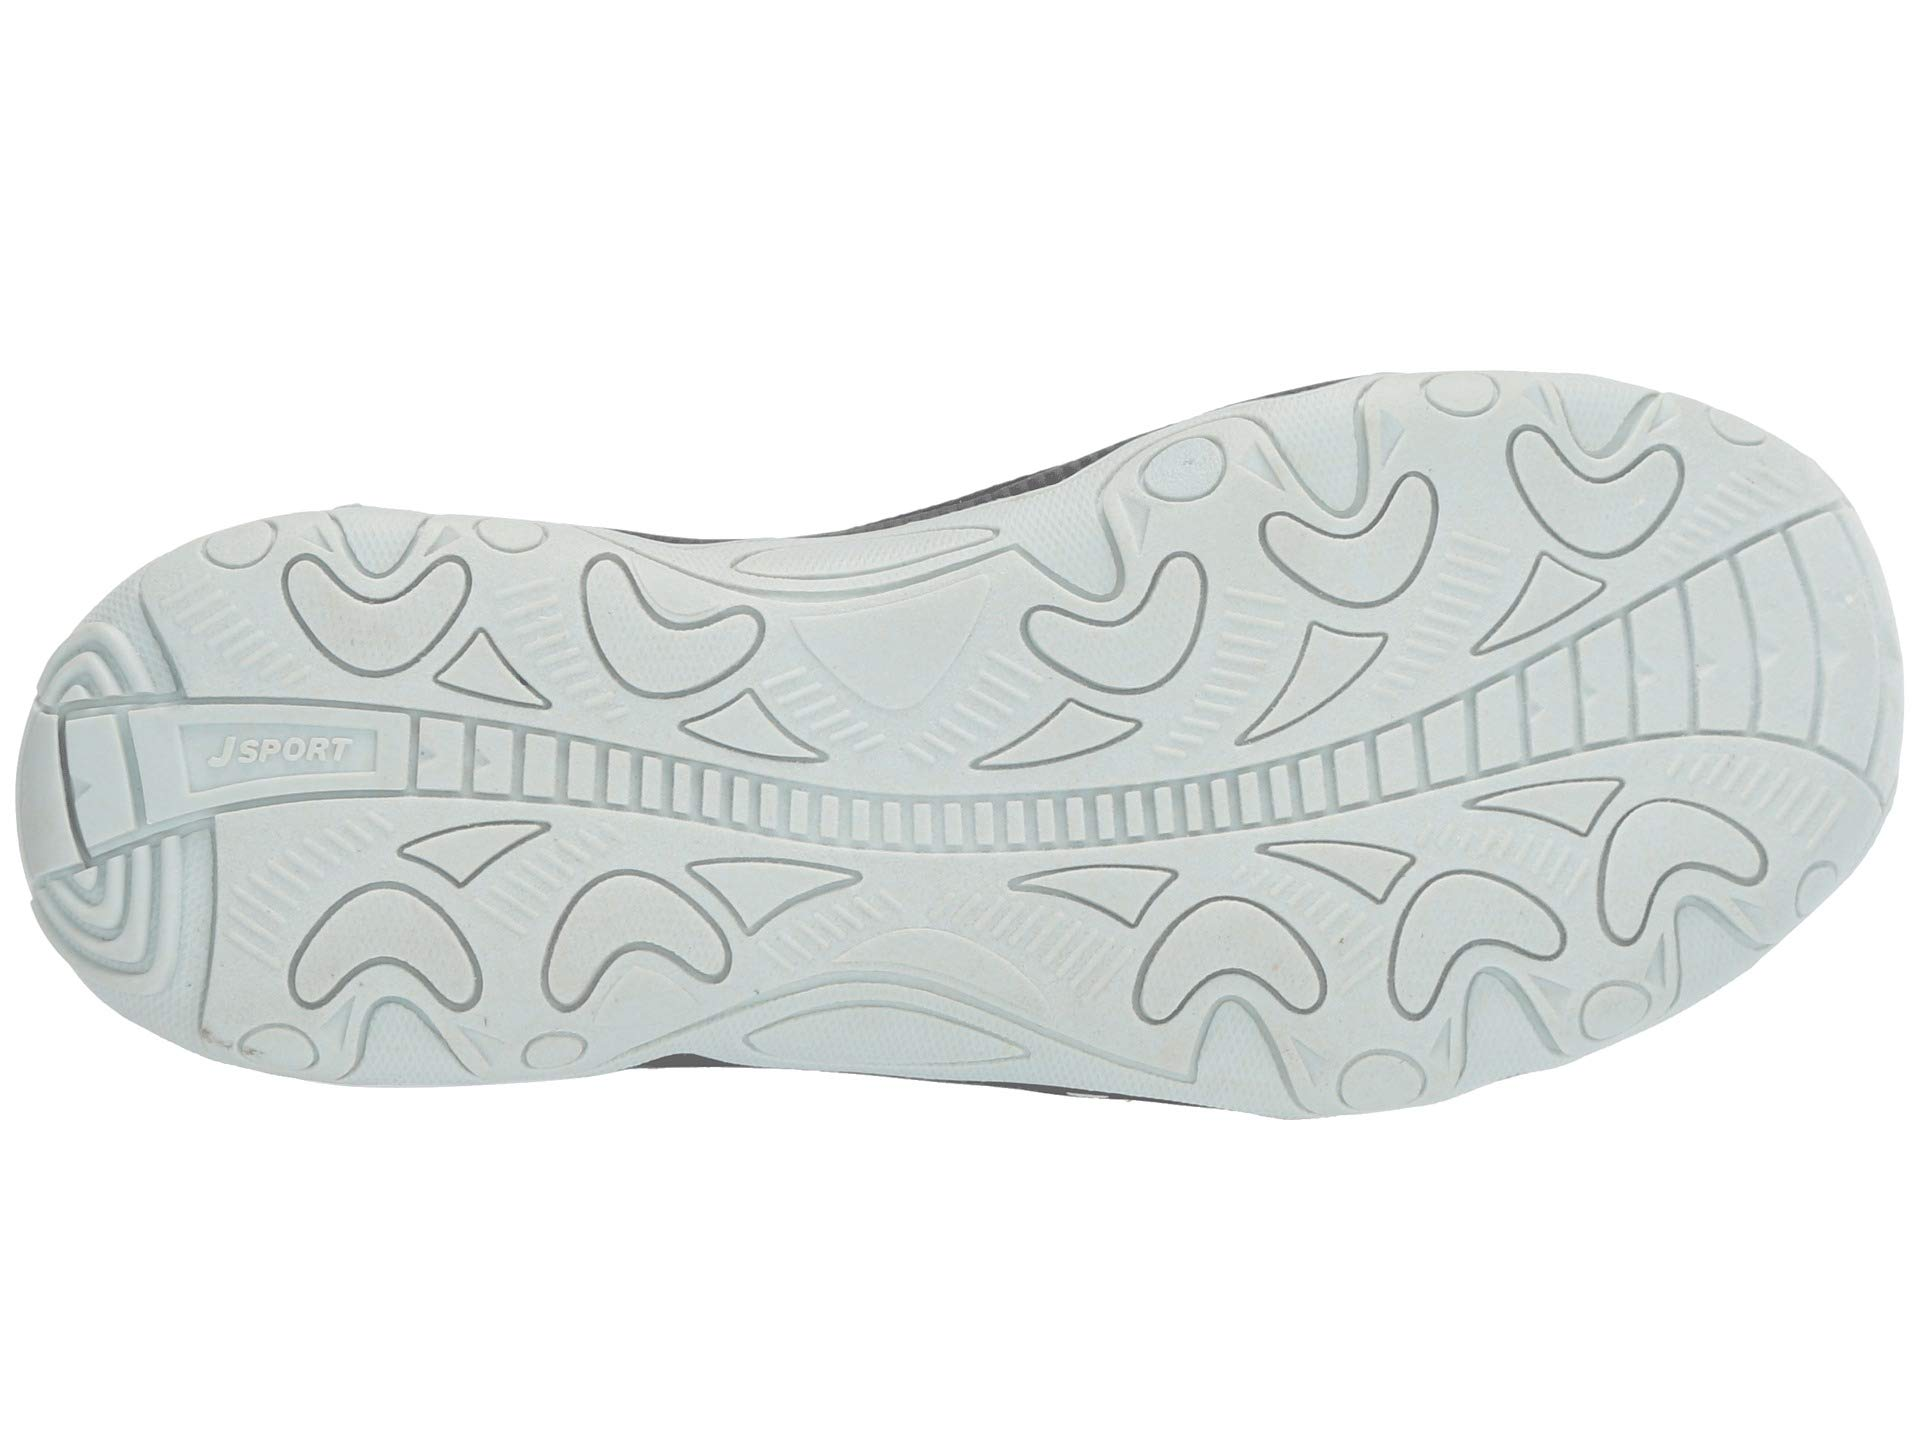chevron: (1436, 414, 1776, 768), (534, 538, 875, 849), (940, 535, 1246, 855)
line: (1436, 414, 1776, 768), (534, 538, 875, 849), (940, 535, 1246, 855)
quad: (534, 538, 875, 849)
triangle: (1436, 414, 1776, 768), (534, 538, 875, 849), (940, 535, 1246, 855)
